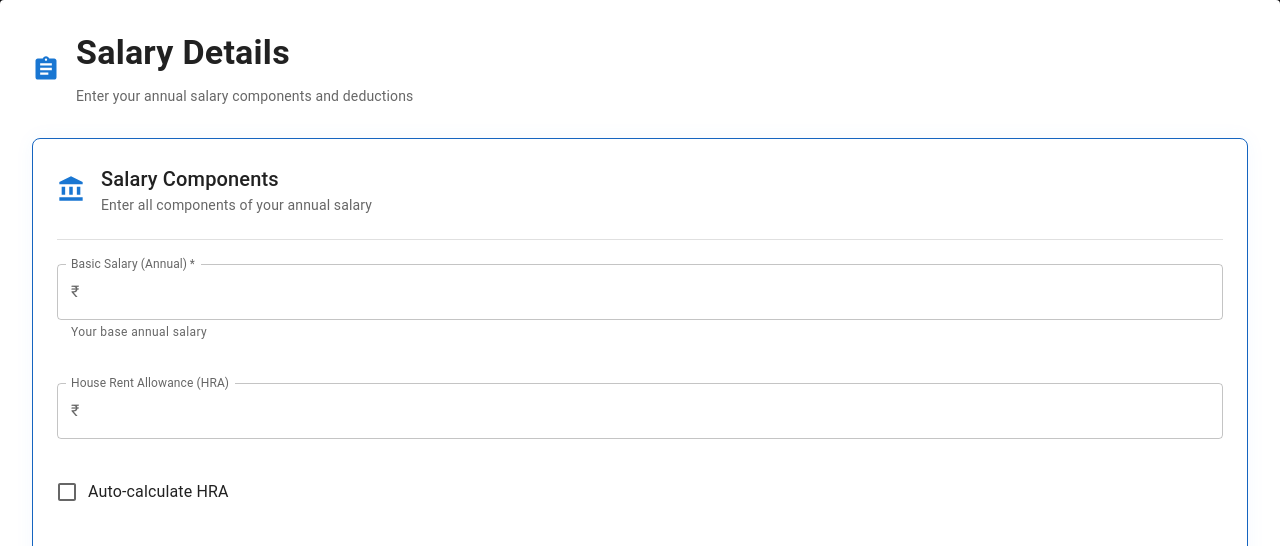
Test: React Components › SalaryInputForm › should handle HRA auto-calculation
This screenshot has width=1280, height=546.
Note: Enter basic salary
Type "500000" into the field labelled "Basic Salary (Annual) *" at (655, 292), box [87,264,1223,320]
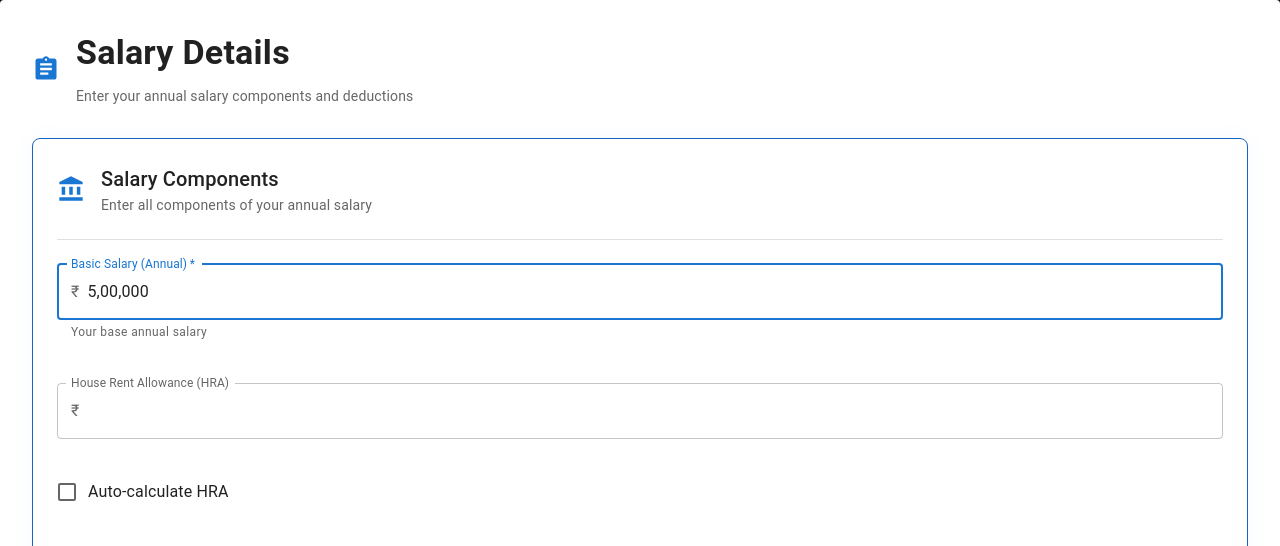
Note: Check auto-calculate
Click the checkbox labelled "Auto-calculate HRA" at (142, 492), box [55,480,229,504]
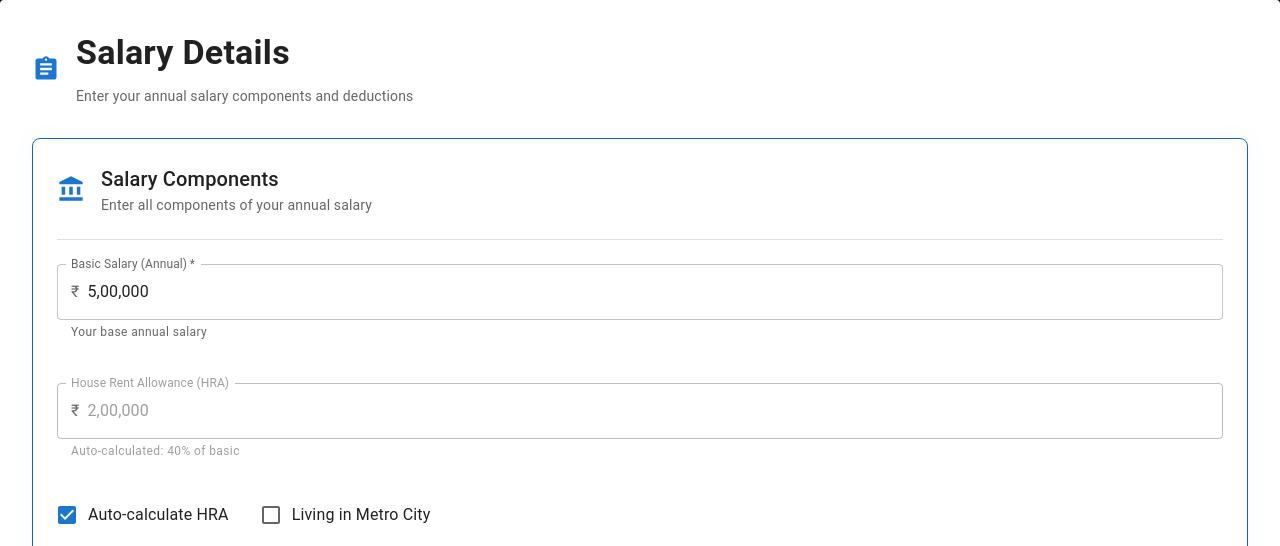
Note: Check metro city
Click the checkbox labelled "Living in Metro City" at (345, 515), box [259,503,430,527]
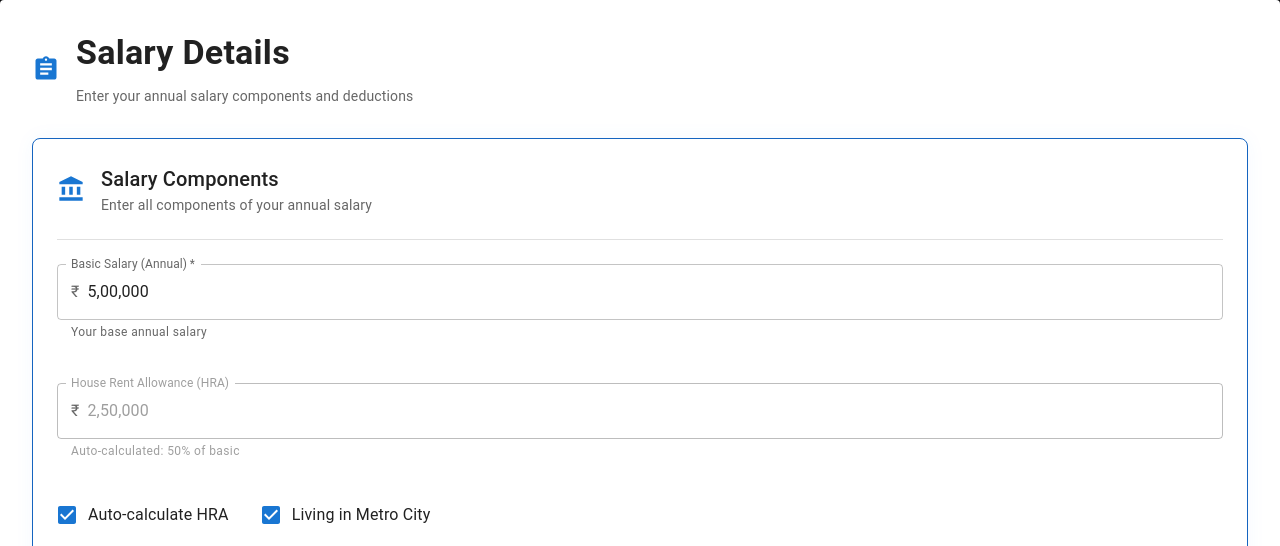
Expected: the field labelled "House Rent Allowance (HRA)" holds "2,50,000", [87,383,1223,439]
